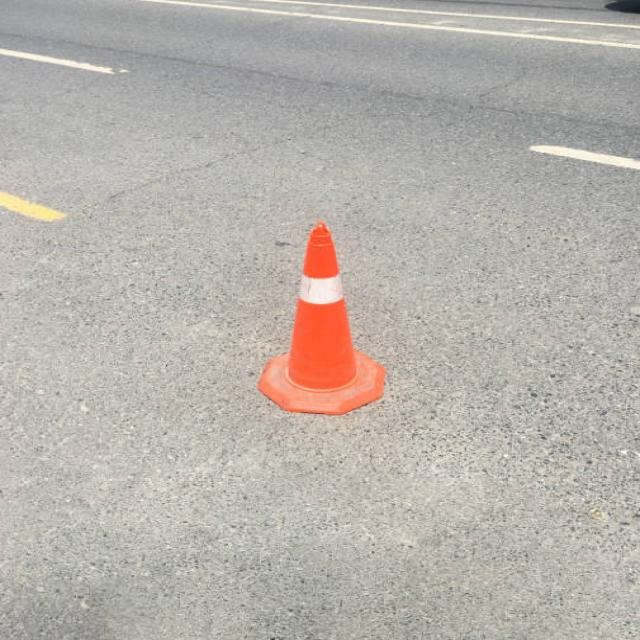Traffic Cone: (220, 184, 418, 450)
